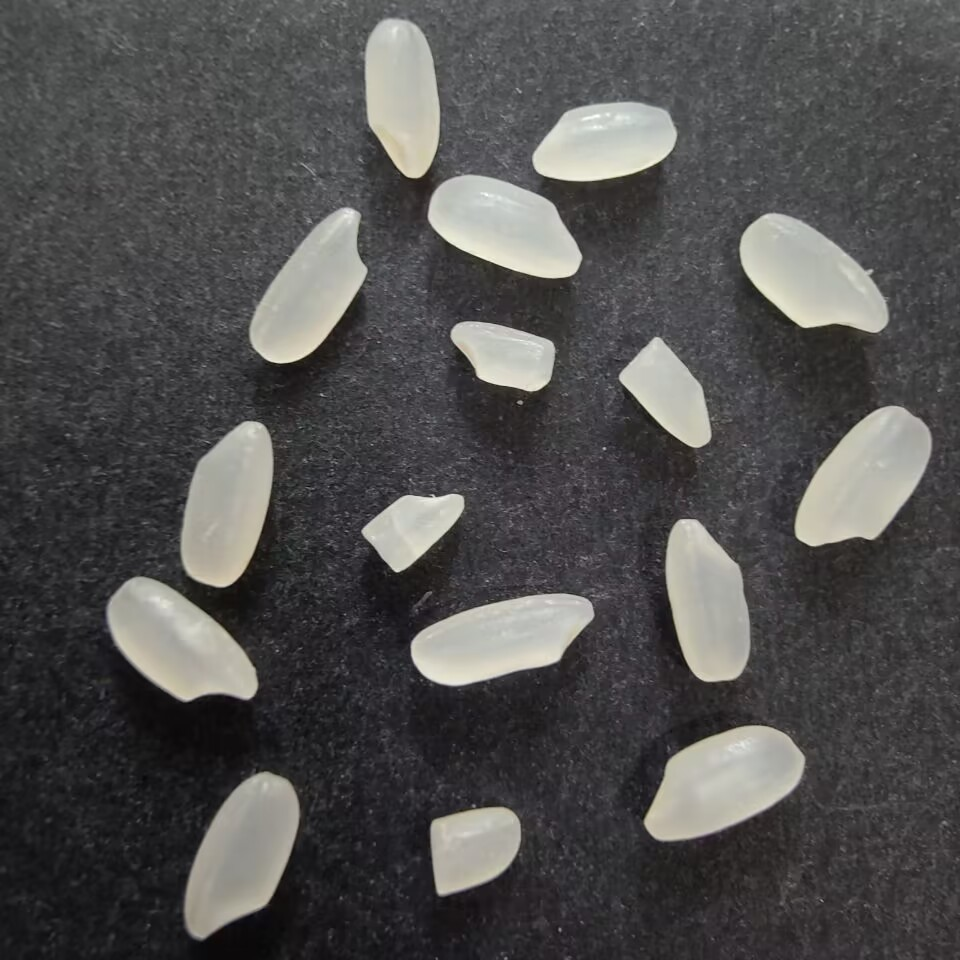broken: (615, 333, 714, 453), (358, 487, 468, 577), (424, 801, 524, 899), (446, 317, 559, 396)
rice: (97, 571, 259, 705), (180, 768, 302, 945), (792, 399, 934, 549), (244, 202, 370, 370), (642, 723, 810, 845), (734, 208, 891, 336), (405, 589, 601, 691), (424, 173, 586, 280), (178, 416, 277, 589), (660, 512, 752, 686), (360, 15, 444, 183), (529, 99, 685, 181)
